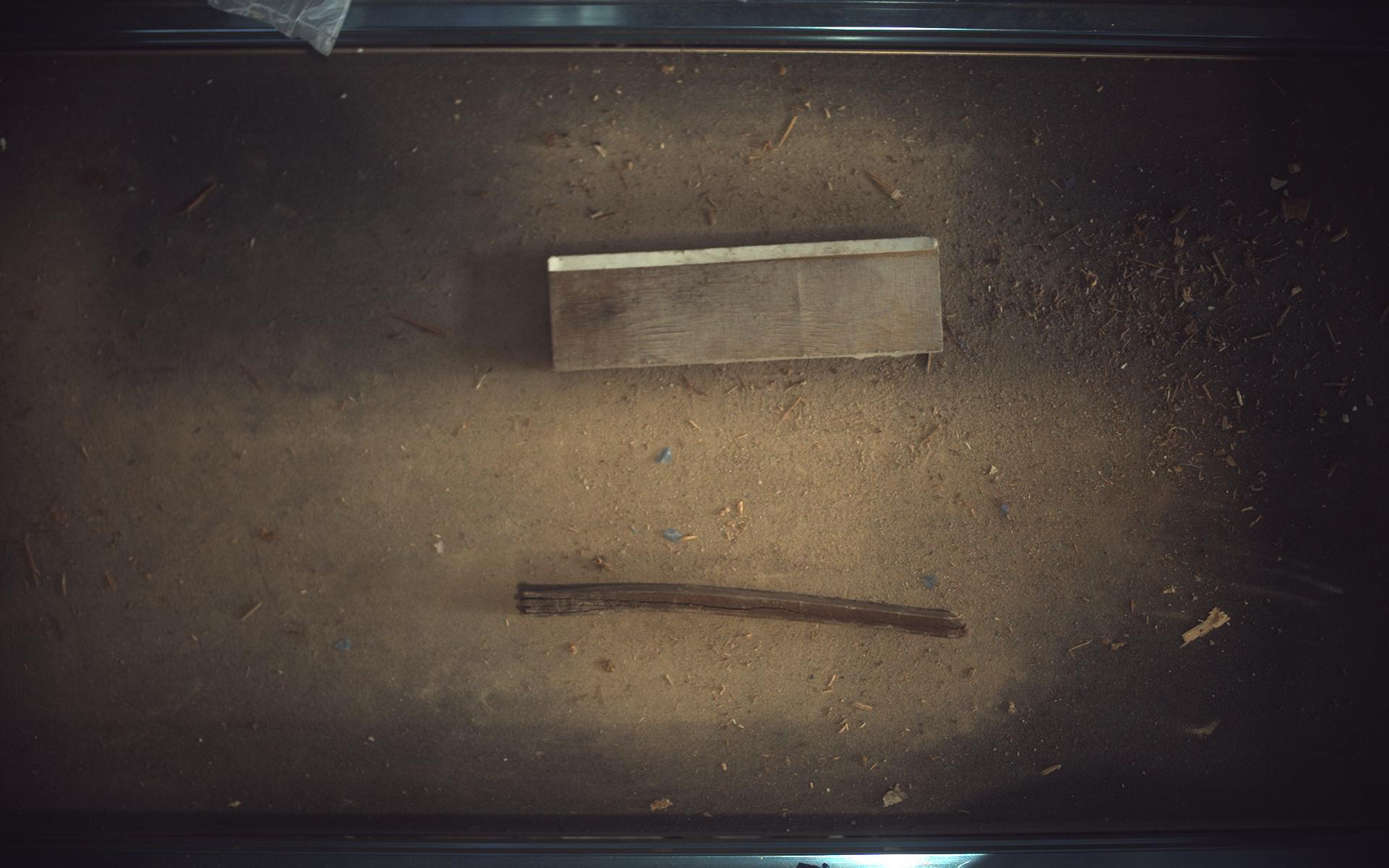wood: (548, 236, 946, 371), (517, 583, 969, 639)
